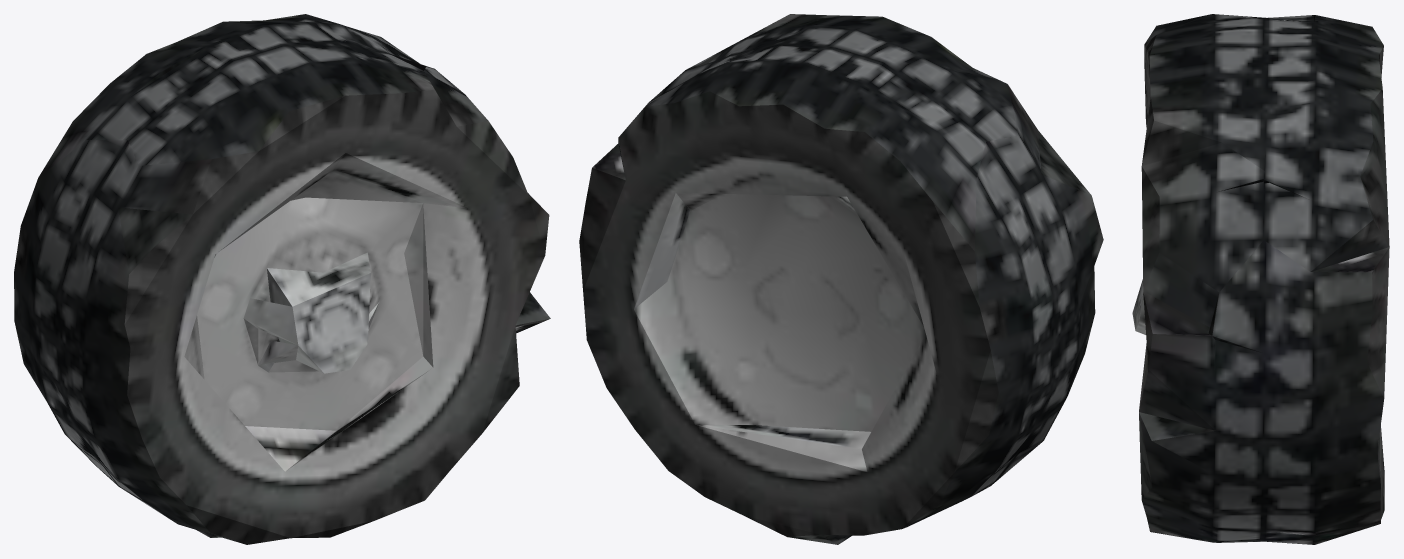
Rendered from scout-wheel.glb.
3 views of the same model, side by side, from view 1: azimuth 30°, elevation 25°; view 2: azimuth 150°, elevation 25°; view 3: azimuth 270°, elevation 25° (orthographic). The views are drawn at different scales.
Visible parts, largest first — view 1: low; view 2: low; view 3: low.
Part boxes in pixels (bbox=[...]): low: bbox=[14, 14, 550, 544]; low: bbox=[579, 14, 1103, 544]; low: bbox=[1132, 14, 1389, 544].
Bounding box in the file's own units: 0.8649 × 0.8908 × 0.4226.
Materials: 1 (1 with a texture image).
